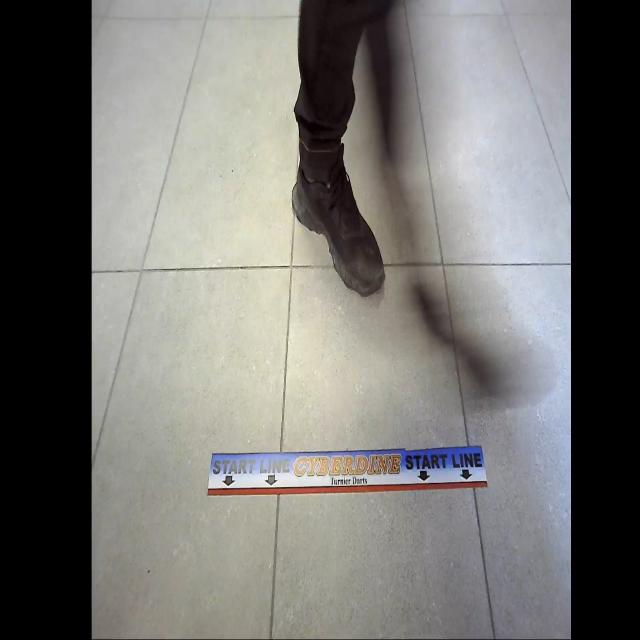foot: (291, 140, 385, 297)
